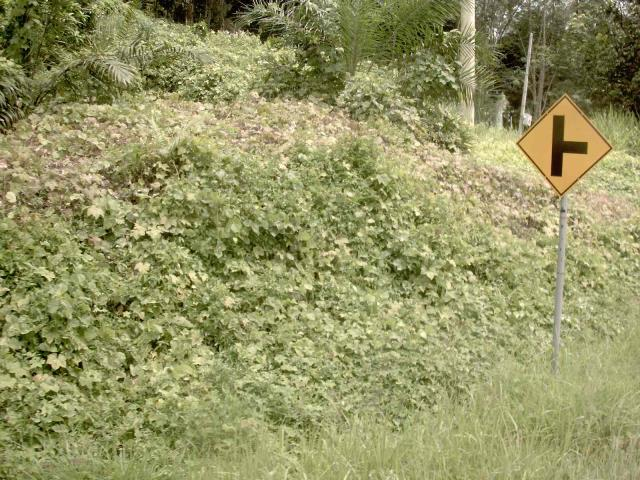traffic_sign: (509, 81, 619, 204)
